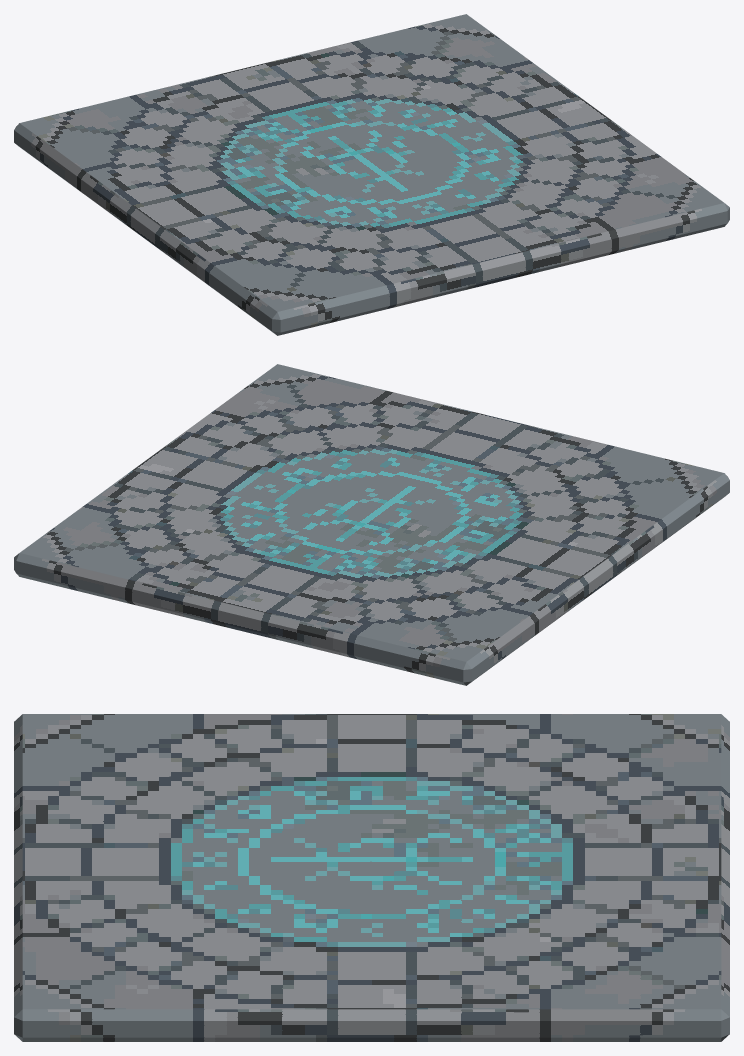
Rendered from topo_zona.glb.
3 views of the same model, one above another, from view 1: azimuth 30°, elevation 25°; view 2: azimuth 150°, elevation 25°; view 3: azimuth 270°, elevation 25° (orthographic). The views are drawn at different scales.
Visible parts, largest first — view 1: pedreira_topo_zona; view 2: pedreira_topo_zona; view 3: pedreira_topo_zona.
Part boxes in pixels (x1,y1,x2,y2): pedreira_topo_zona: (14,14,729,335); pedreira_topo_zona: (14,364,729,685); pedreira_topo_zona: (14,714,729,1041).
Size of the model in its own units: 1 by 0.05 by 1.
Materials: 1 (1 with a texture image).
